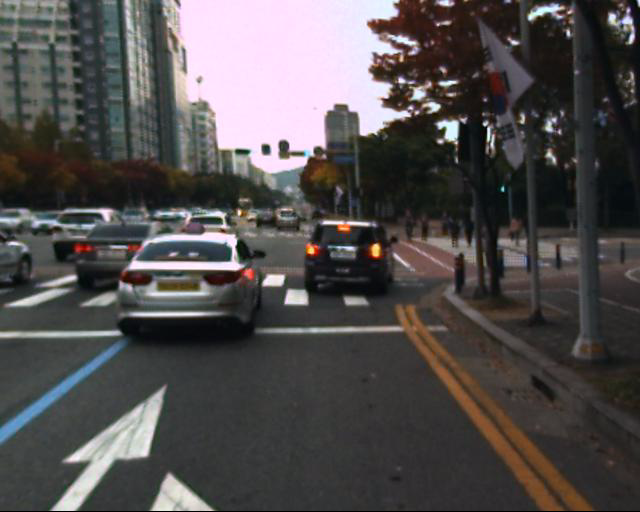person: (570, 201, 606, 268), (477, 214, 505, 282)
